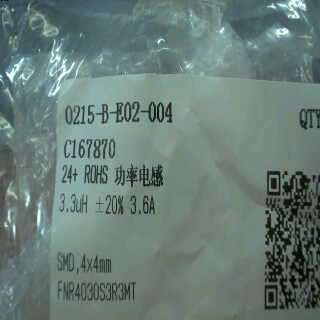3.3uH: (55, 188, 88, 219)
